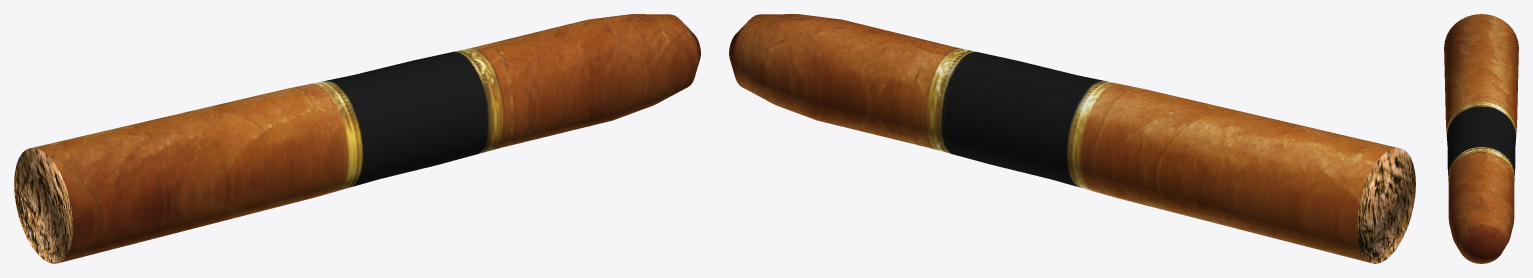
File: Cigar_1.fbx
The picture shows the model from 3 angles, left to right: view 1: azimuth 30°, elevation 25°; view 2: azimuth 150°, elevation 25°; view 3: azimuth 270°, elevation 25°; orthographic projection. The views are drawn at different scales.
Parts seen in each view (by area): view 1: Cigar; view 2: Cigar; view 3: Cigar.
Boxes of the visible parts, left/top/right/bottom form: Cigar: left=14, top=14, right=700, bottom=263; Cigar: left=729, top=14, right=1415, bottom=263; Cigar: left=1444, top=14, right=1518, bottom=263.
Size of the model in its own units: 18.38 by 2.92 by 2.92.
Materials: 2 (2 with a texture image).
